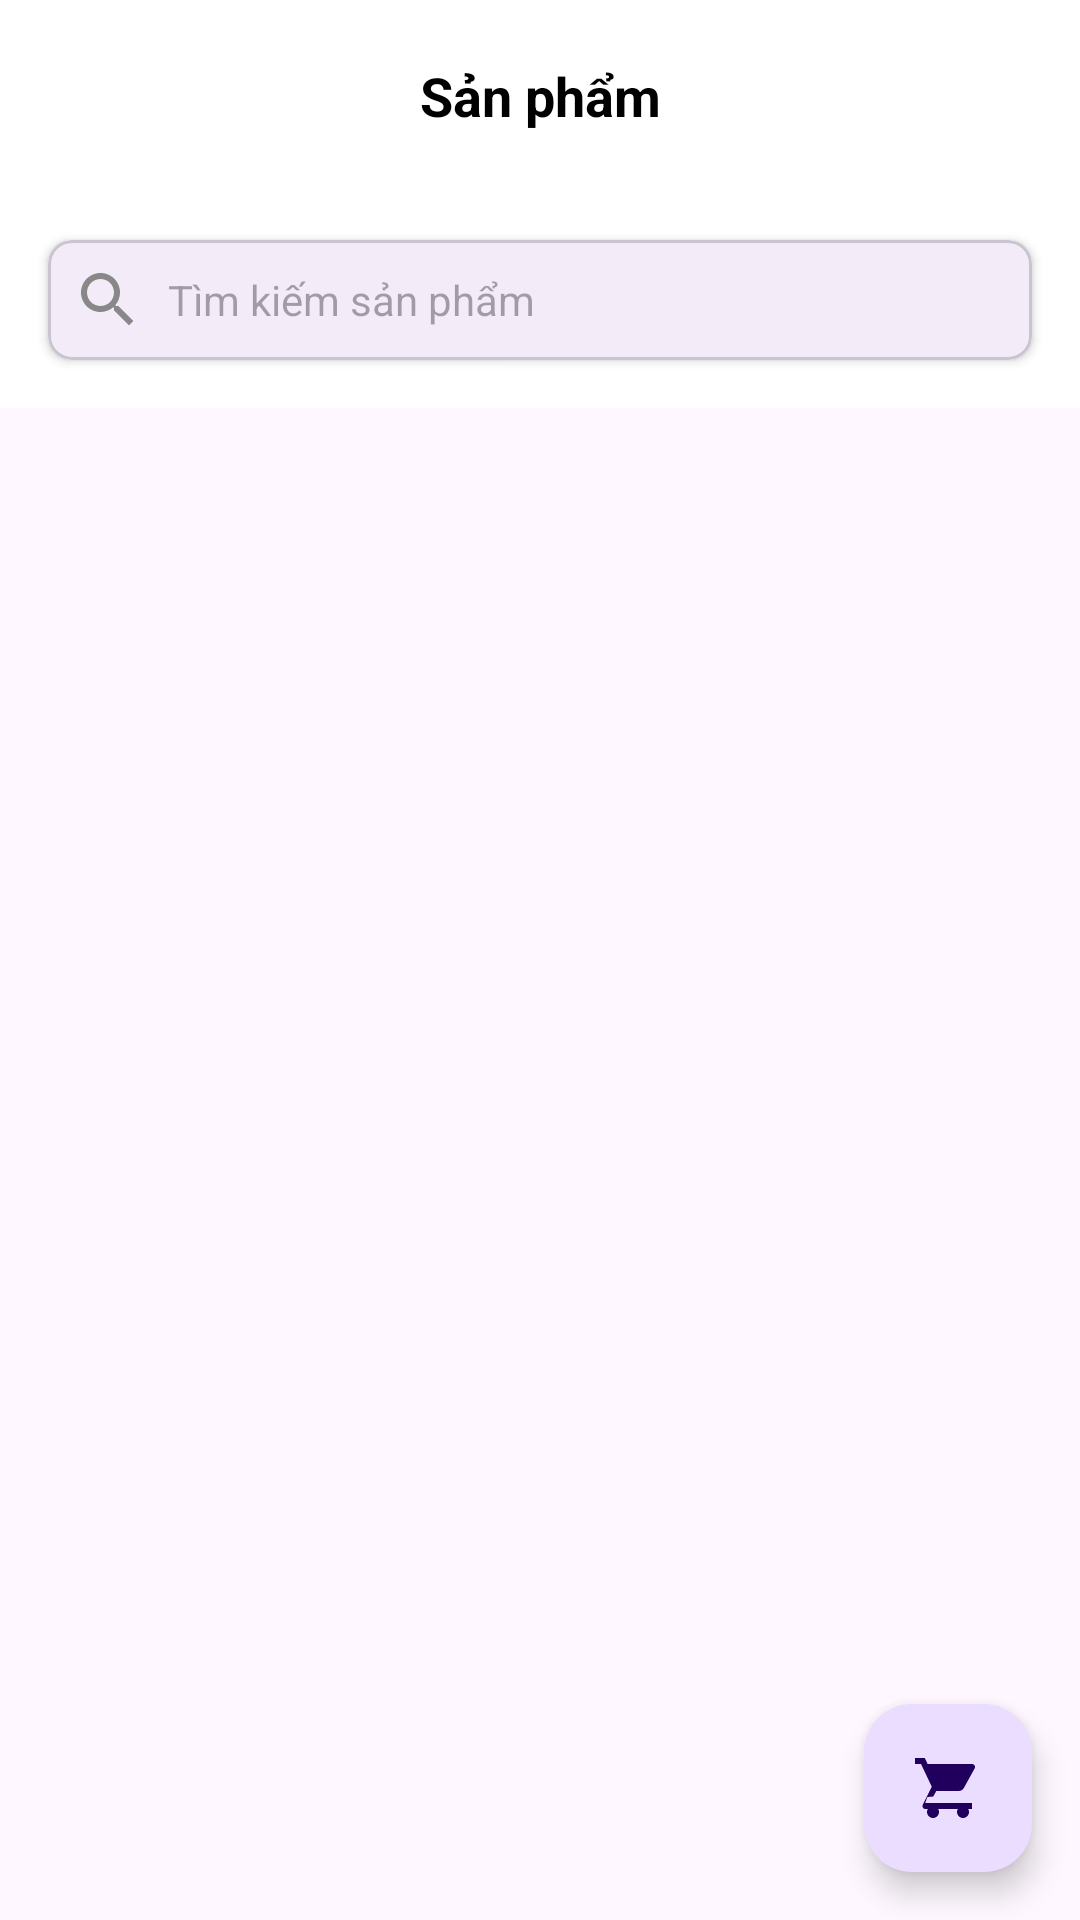

Screen size 1080*1920. Icon name, then its center in pixels as (x,y):
search: (107,299)
shopping cart: (948,1788)
